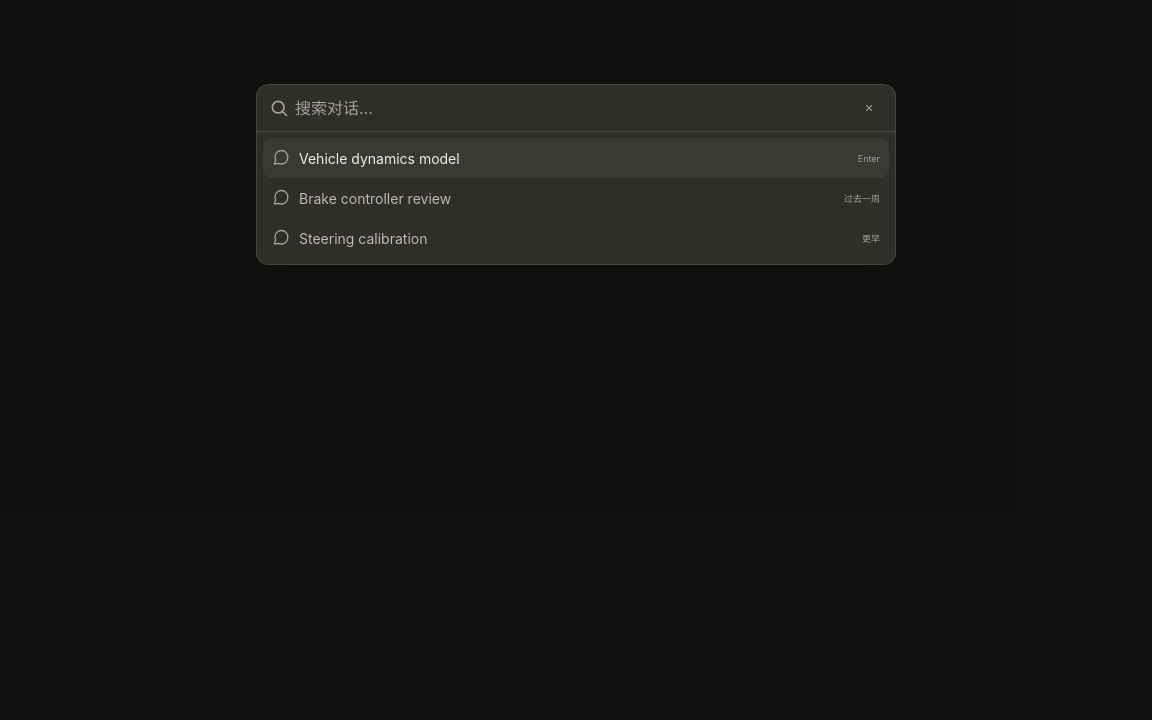
it: ChatSearchModal › shows a no-results message when nothing matches
In the field with class "search-input": (572,108) [295,98,849,118], type "zzzzz"
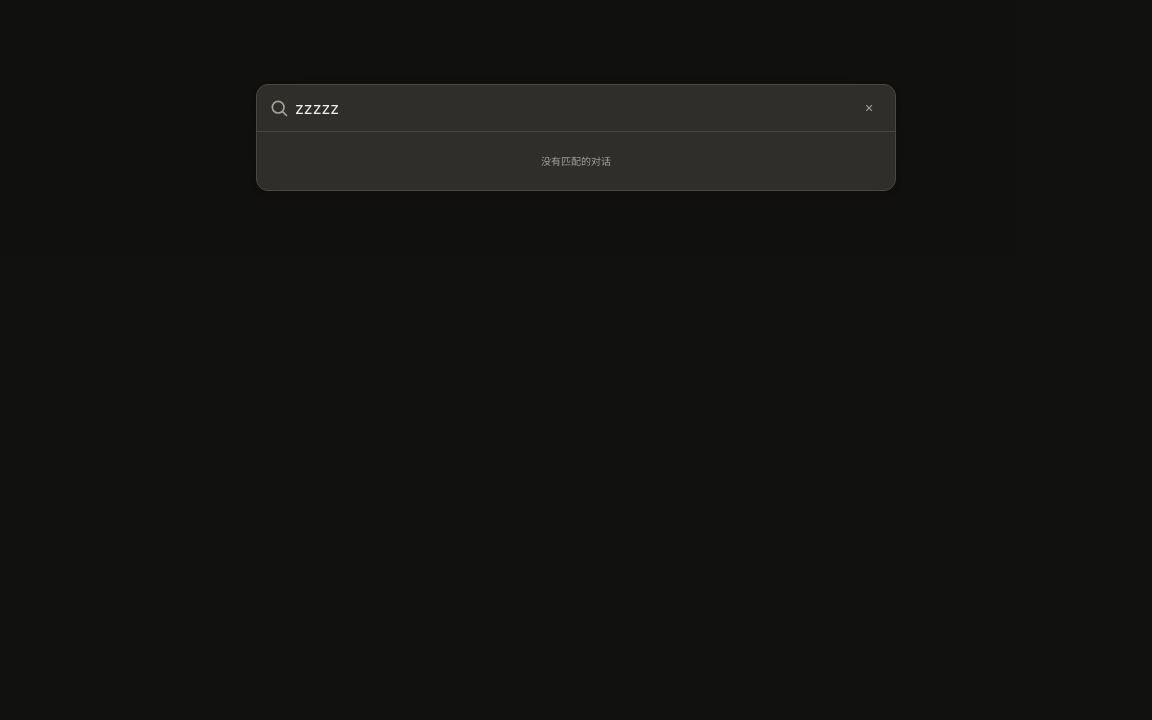
Now the text "没有匹配的对话" is shown, box [541,155,611,167]
Now no buttons with class "search-result" are shown
